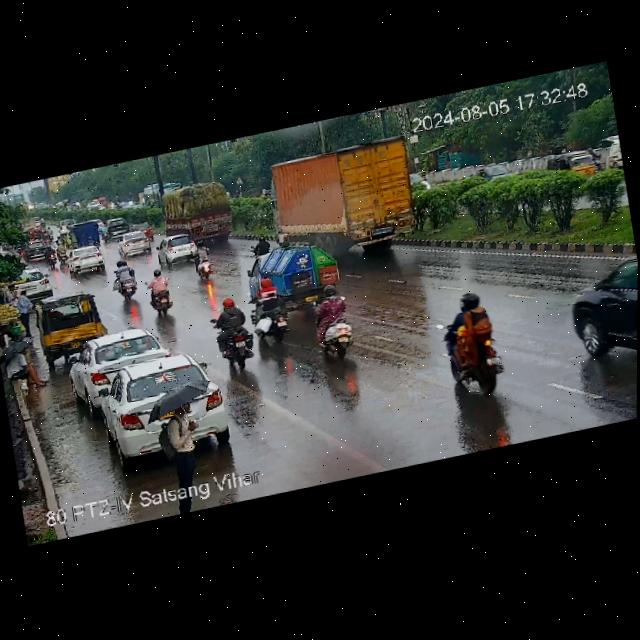car: (86, 348, 225, 447), (559, 249, 638, 374), (69, 322, 172, 400), (31, 286, 112, 357), (542, 145, 602, 185), (64, 242, 111, 276), (153, 231, 194, 266), (114, 227, 153, 259), (72, 218, 106, 250), (106, 215, 133, 238), (132, 219, 157, 236)
motorcycle: (436, 285, 506, 399), (203, 294, 260, 376), (307, 283, 361, 361), (253, 290, 297, 345), (143, 263, 175, 321), (108, 258, 143, 302), (189, 239, 213, 283), (41, 242, 60, 272), (55, 240, 69, 265)
person: (159, 398, 210, 488), (1, 341, 47, 395), (7, 287, 39, 337)
truck: (259, 128, 422, 268), (243, 229, 345, 319), (159, 172, 235, 257)
